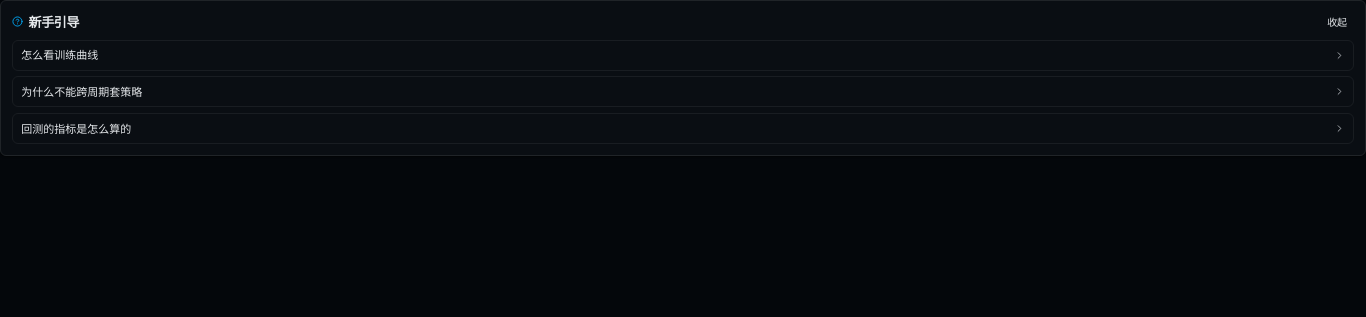
Test: AlphaMiningGuide 教学文案 › 点击主题展开正文,含 Selene 术语(best_score/avg_reward)
The width and height of the screenshot is (1366, 317).
Click the button "怎么看训练曲线".
click(60, 54)  # box [13,40,1353,70]
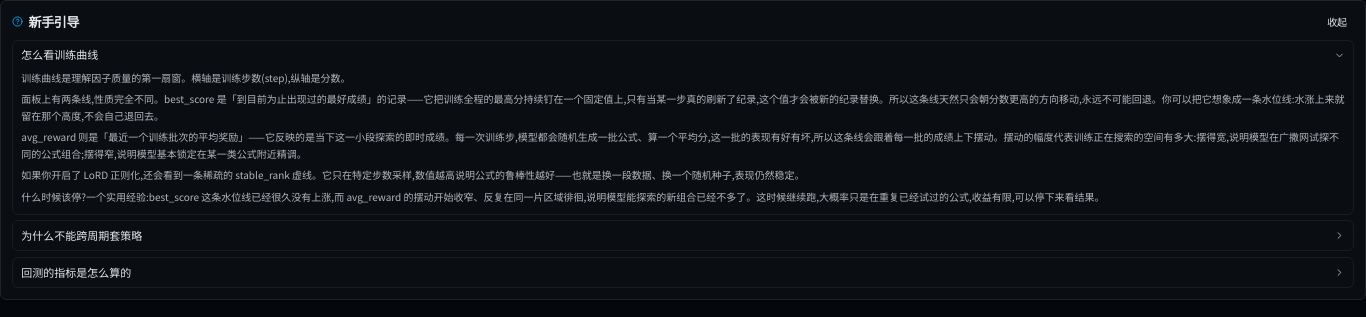
Check: the text "best_score 是「到目前为止出现过的最好成绩」的记录" is shown, box [21,91,1345,123]
Check: the text "avg_reward 则是「最近一个训练批次的平均奖励」" is shown, box [21,129,1339,161]
